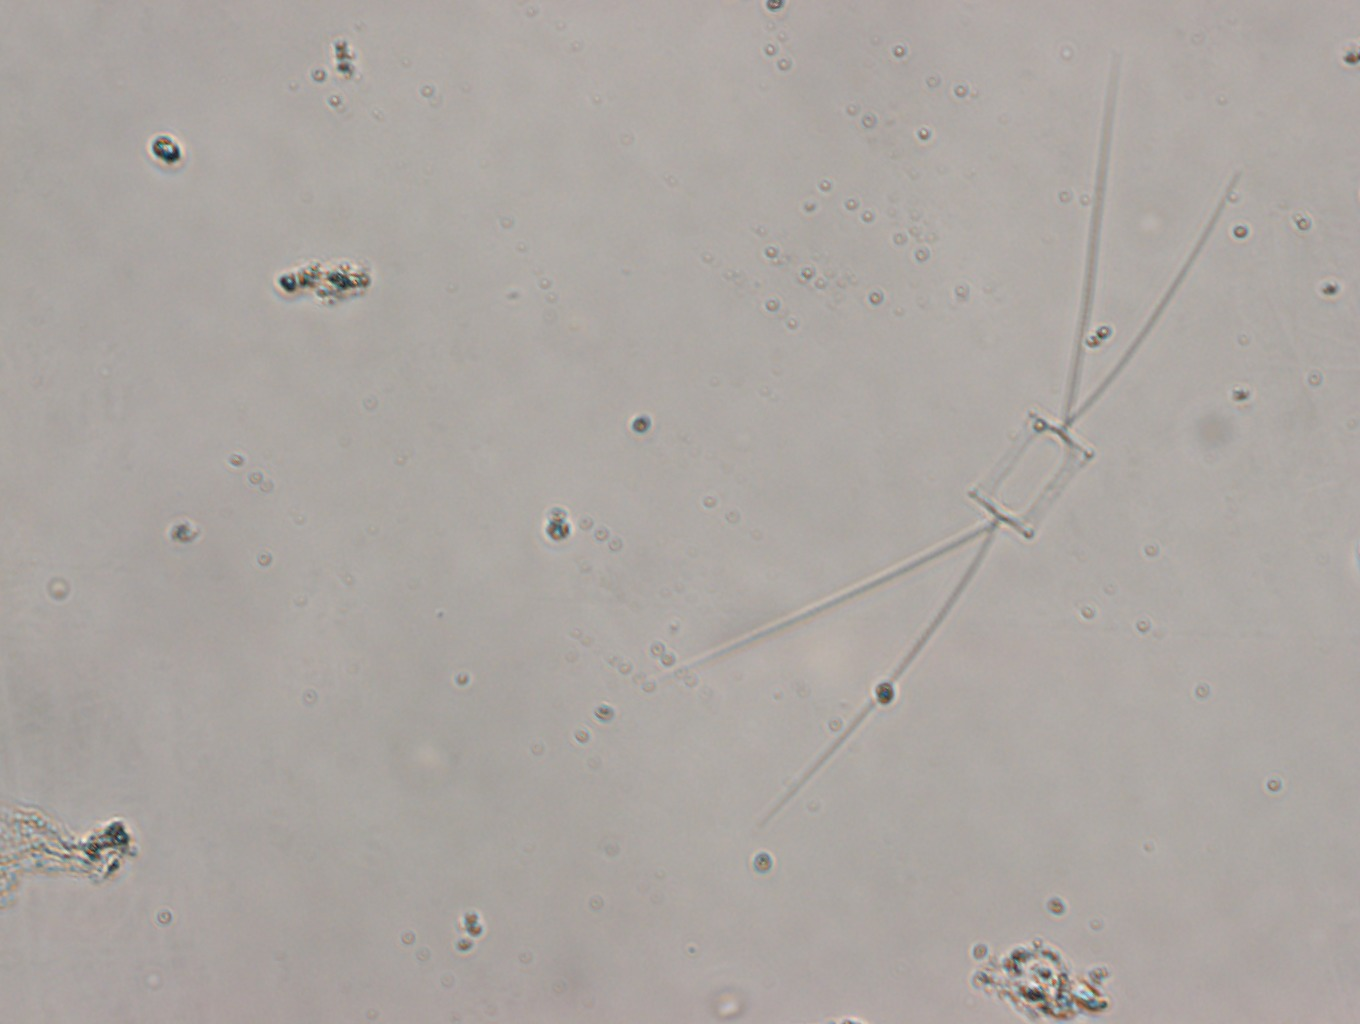chaetoceros: (660, 49, 1241, 828)
